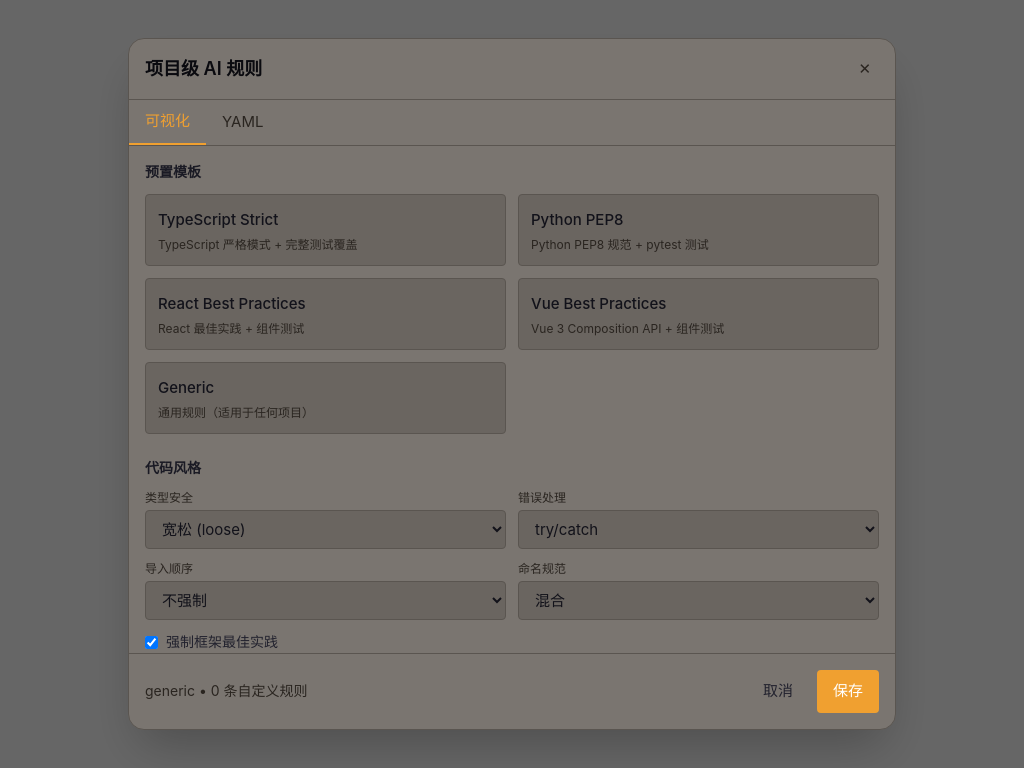
Scenario: RulesEditor 组件 (Cycle 18 G18-02) › 应该应用模板
What coordinates should you click on to do the following:
click the button with test id "rules-template-typescript_strict"
I would click on:
 (218, 219)
Its box is [145,194,506,266].
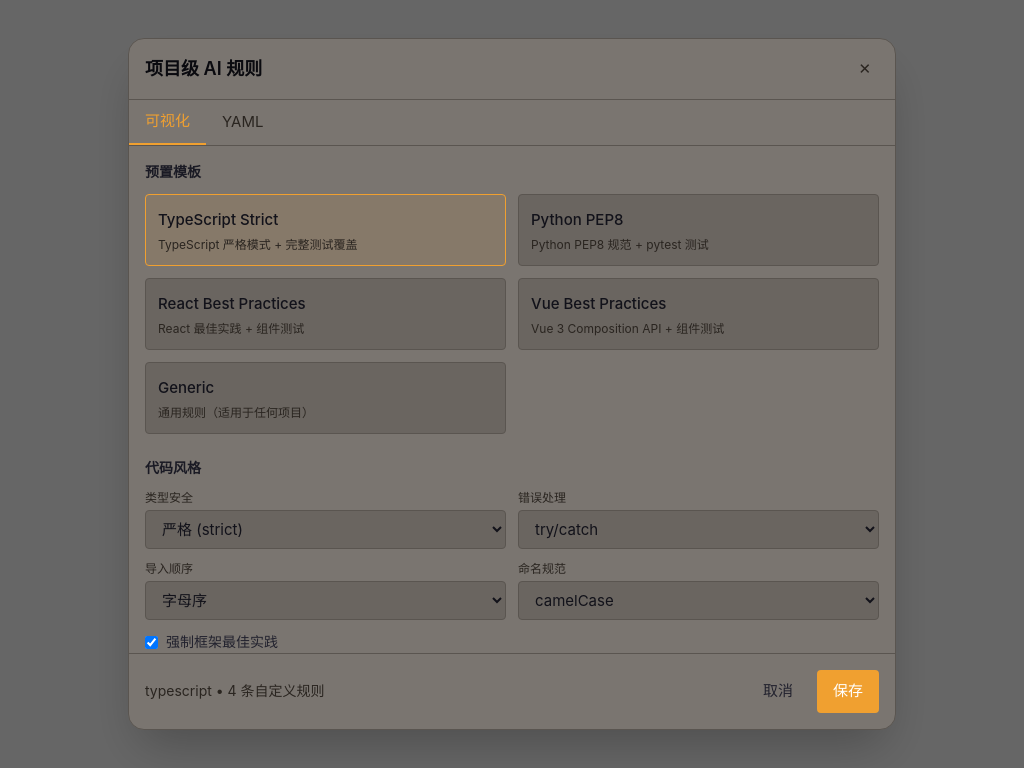
Expected: the dropdown with test id "rule-type-safety" shows "严格 (strict)", [145,510,506,549]
